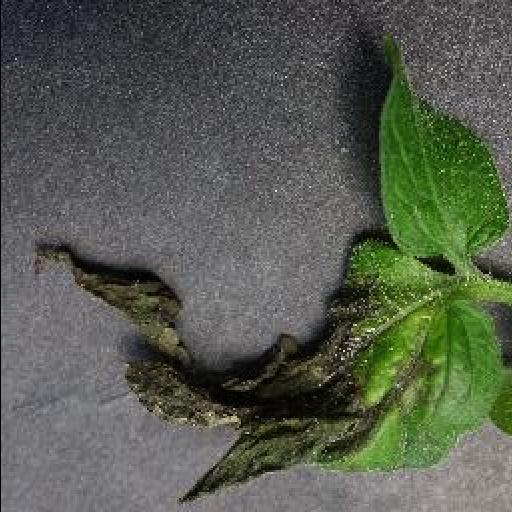disease_tomato: (26, 238, 500, 502)
